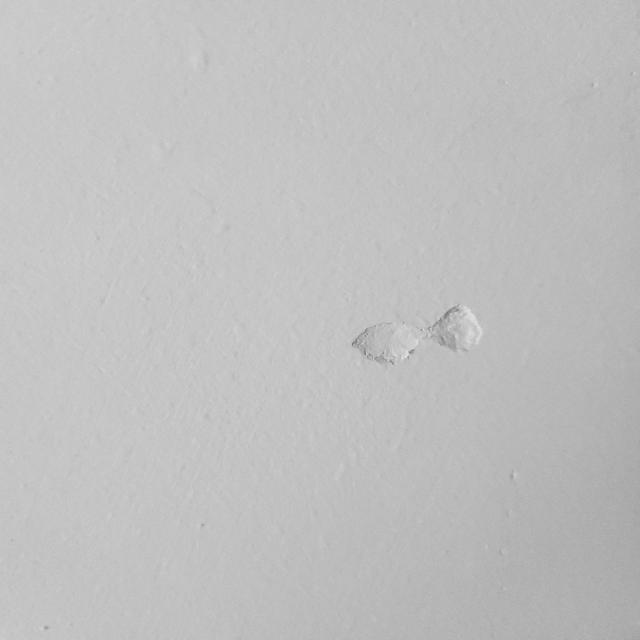rough and patchy surface: (207, 413, 418, 516), (330, 288, 495, 402), (490, 456, 528, 493)
